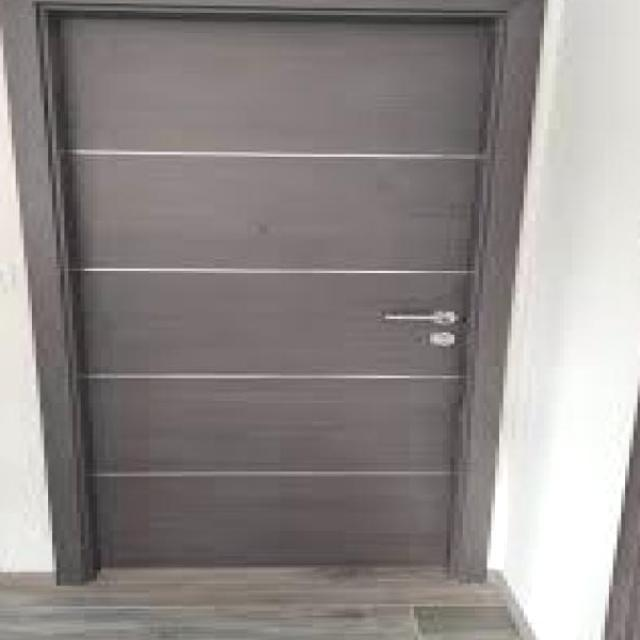door: (33, 4, 522, 584)
